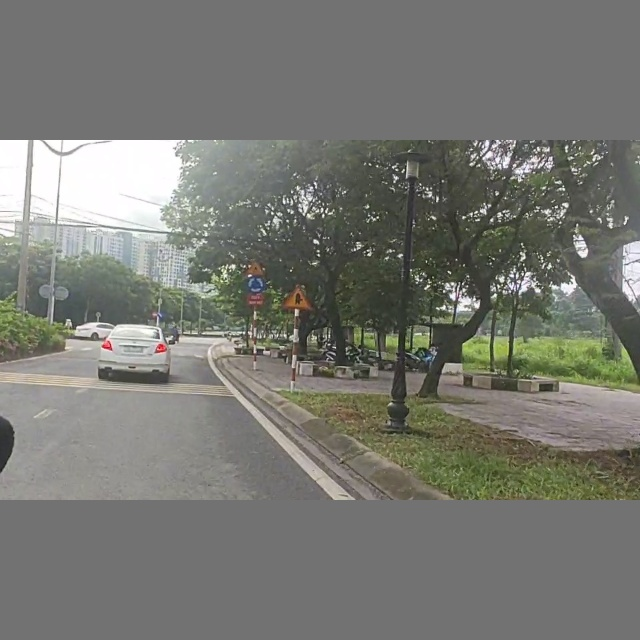P.102: (151, 311, 157, 318)
R.302a: (157, 311, 165, 319)
R.303: (245, 275, 267, 294)
W.207: (283, 285, 311, 311)
W.224: (243, 260, 267, 275)
